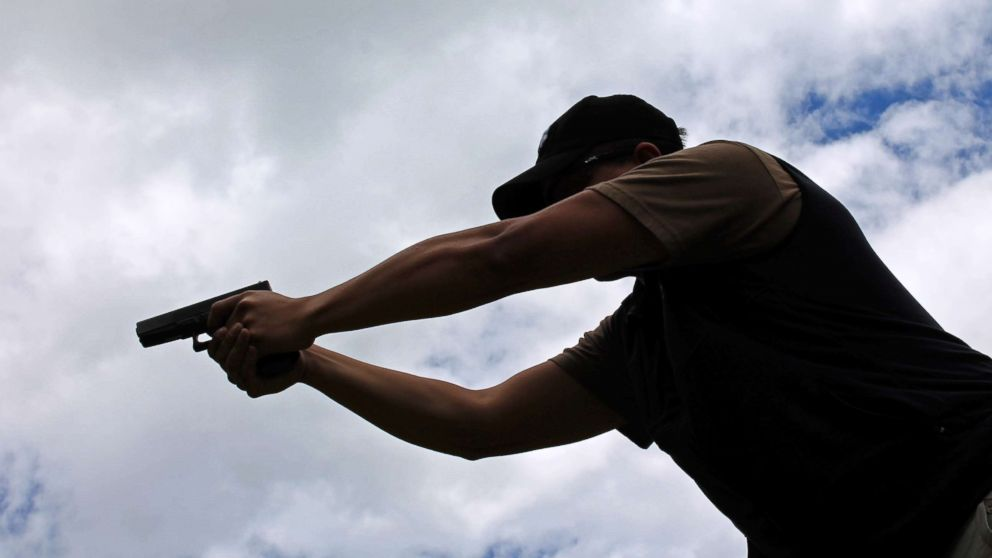Gun: (125, 276, 277, 355)
